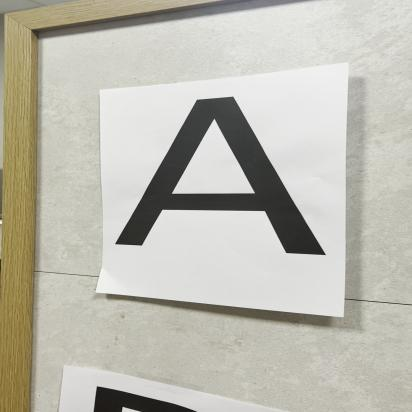seat: (98, 93, 345, 267)
